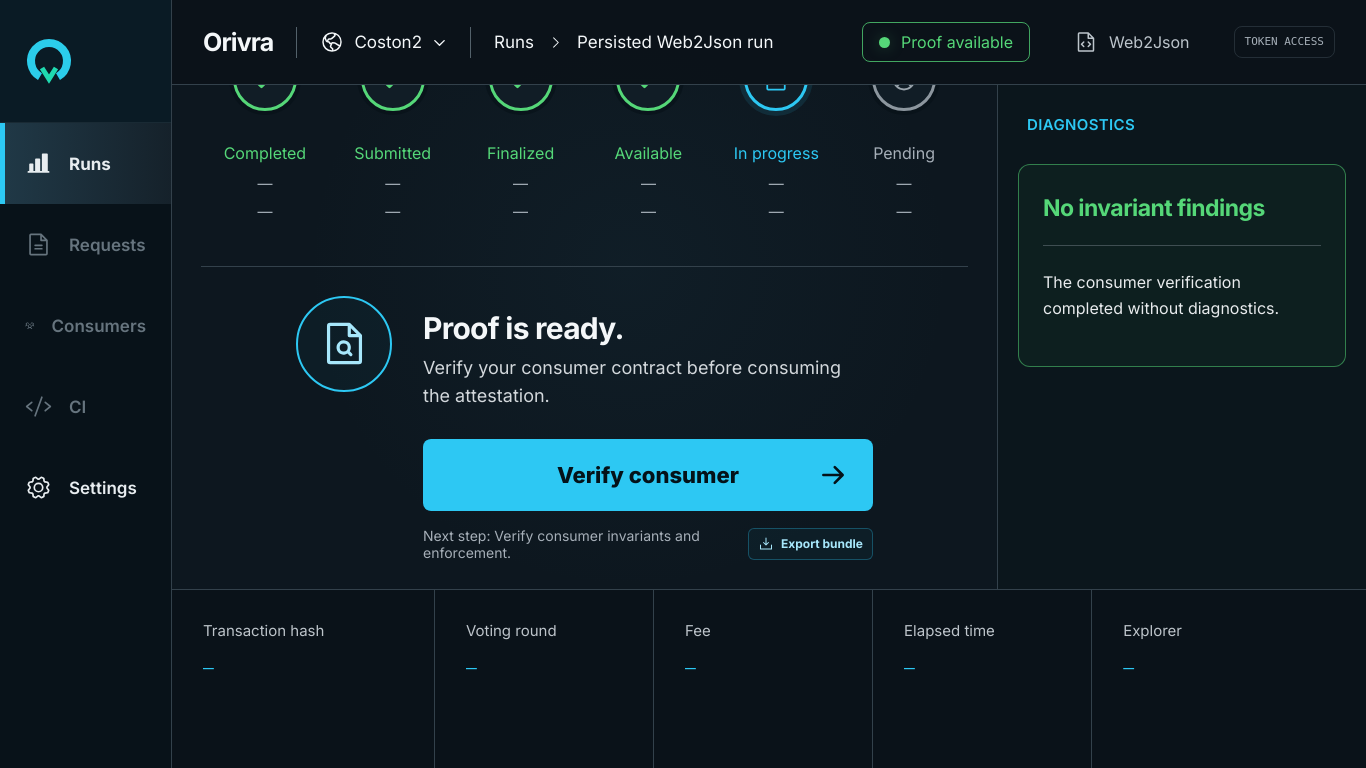
it: ProductEventV1 journey instrumentation › does not report safe codegen when generation fails
(page scrolled)
What coordinates should you click on to do the following:
click the button "Verify consumer"
I would click on:
 (648, 475)
Its box is top-left (423, 439), bottom-right (873, 511).
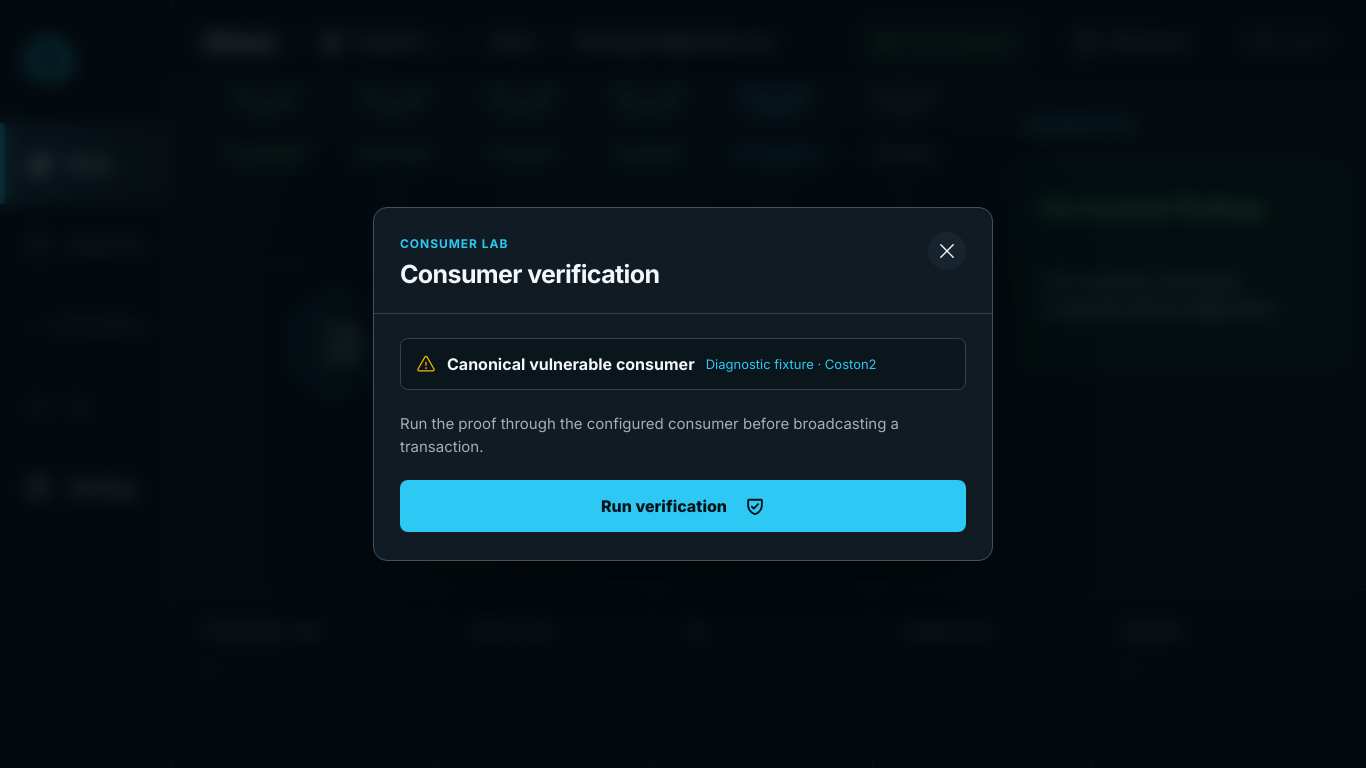
What coordinates should you click on to do the following:
click the button "Run verification"
I would click on:
 (683, 506)
Its box is top-left (400, 480), bottom-right (966, 532).
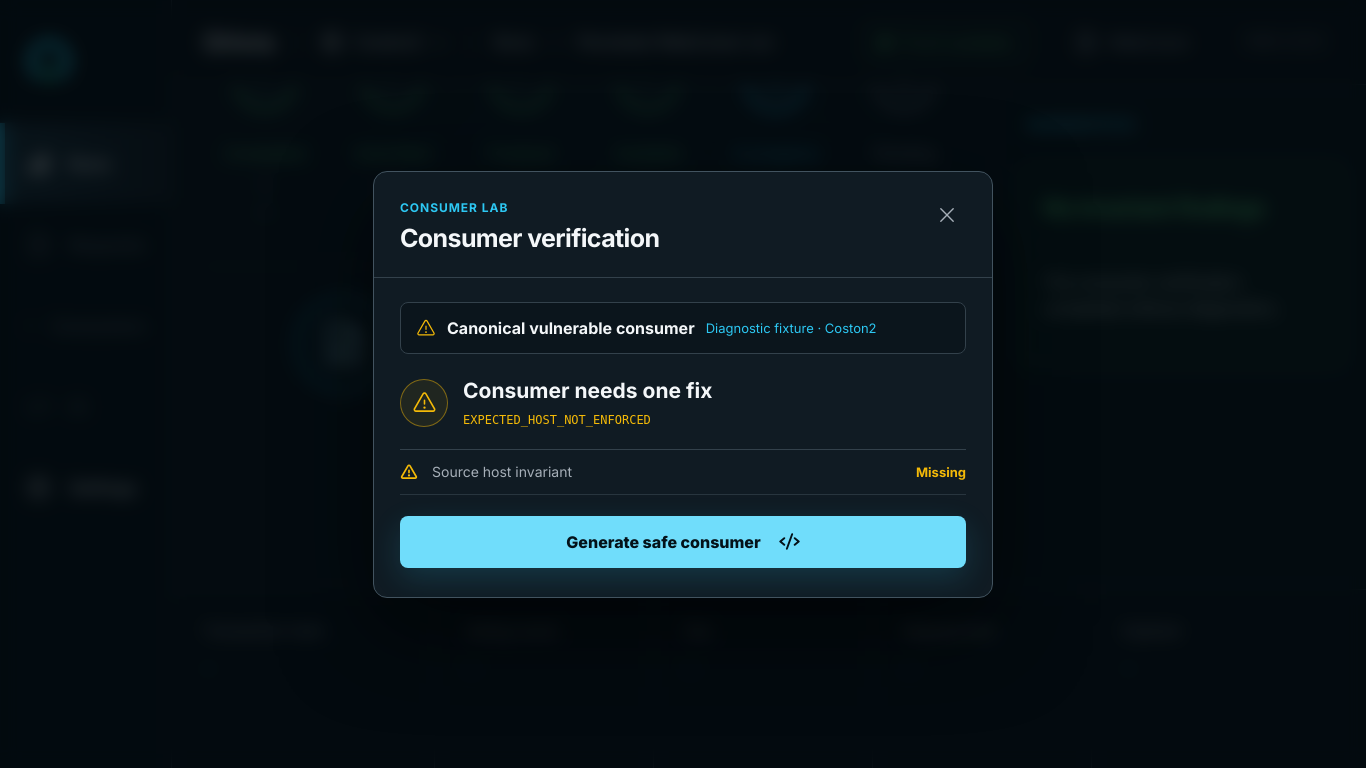
Check: the heading "Consumer needs one fix" is shown, box top-left (463, 378), bottom-right (712, 402)
What coordinates should you click on to do the following:
click the button "Generate safe consumer"
I would click on:
 (683, 542)
Its box is top-left (400, 516), bottom-right (966, 568).
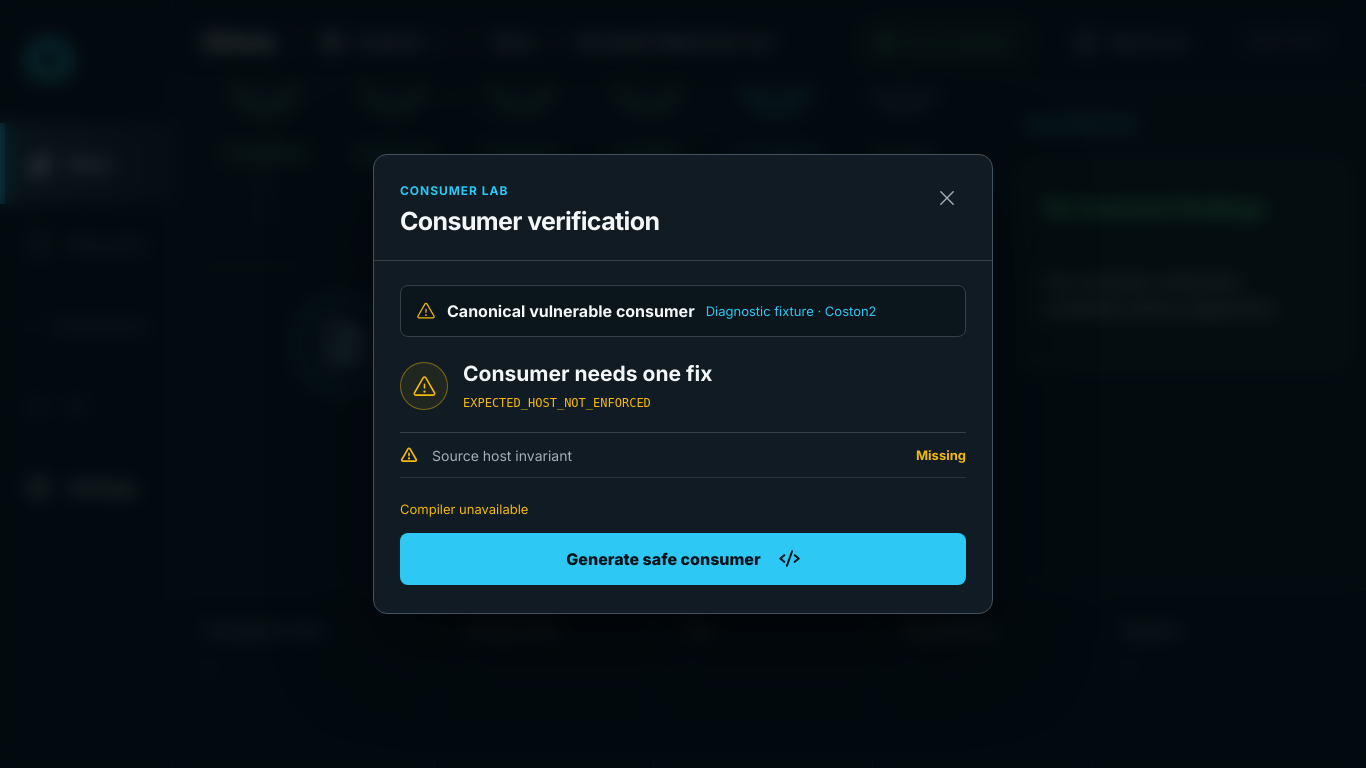
Check: the message "Compiler unavailable" is shown, box top-left (400, 501), bottom-right (528, 517)
